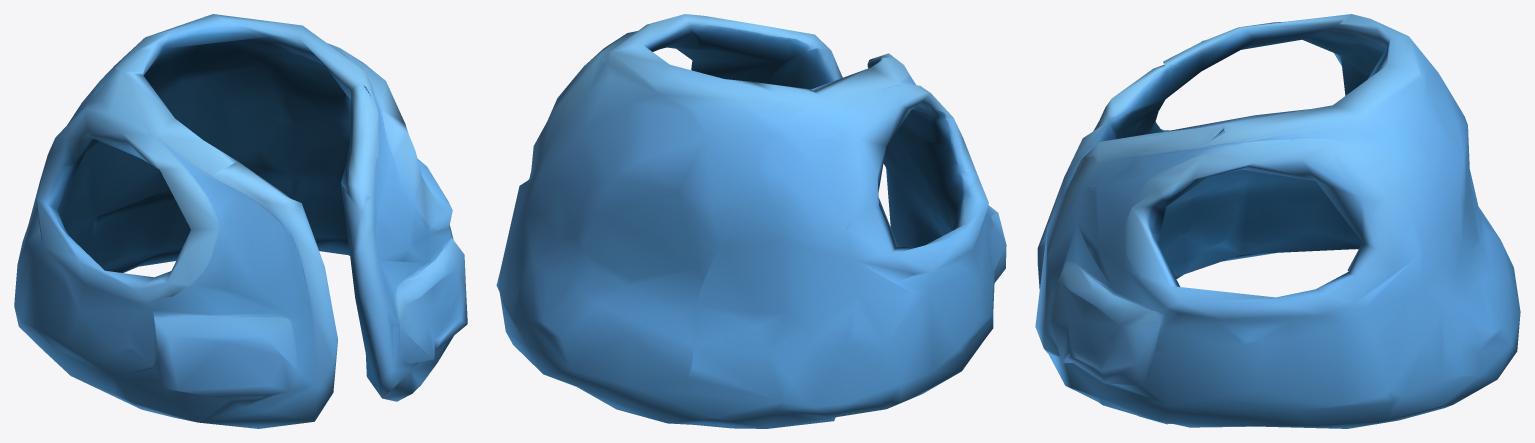
The model's file is shark-body.glb.
The picture shows the model from 3 angles, left to right: view 1: azimuth 30°, elevation 25°; view 2: azimuth 150°, elevation 25°; view 3: azimuth 270°, elevation 25°; orthographic projection. The views are drawn at different scales.
Visible parts, largest first — view 1: tripo_node_fb31c4a6; view 2: tripo_node_fb31c4a6; view 3: tripo_node_fb31c4a6.
Part boxes in pixels (box(x1,y1,x2,y2)): tripo_node_fb31c4a6: box(14, 14, 467, 428); tripo_node_fb31c4a6: box(496, 14, 1006, 428); tripo_node_fb31c4a6: box(1035, 14, 1520, 428).
Bounding box in the file's own units: 0.557 × 0.392 × 0.554.
1 material, 1 textured.
